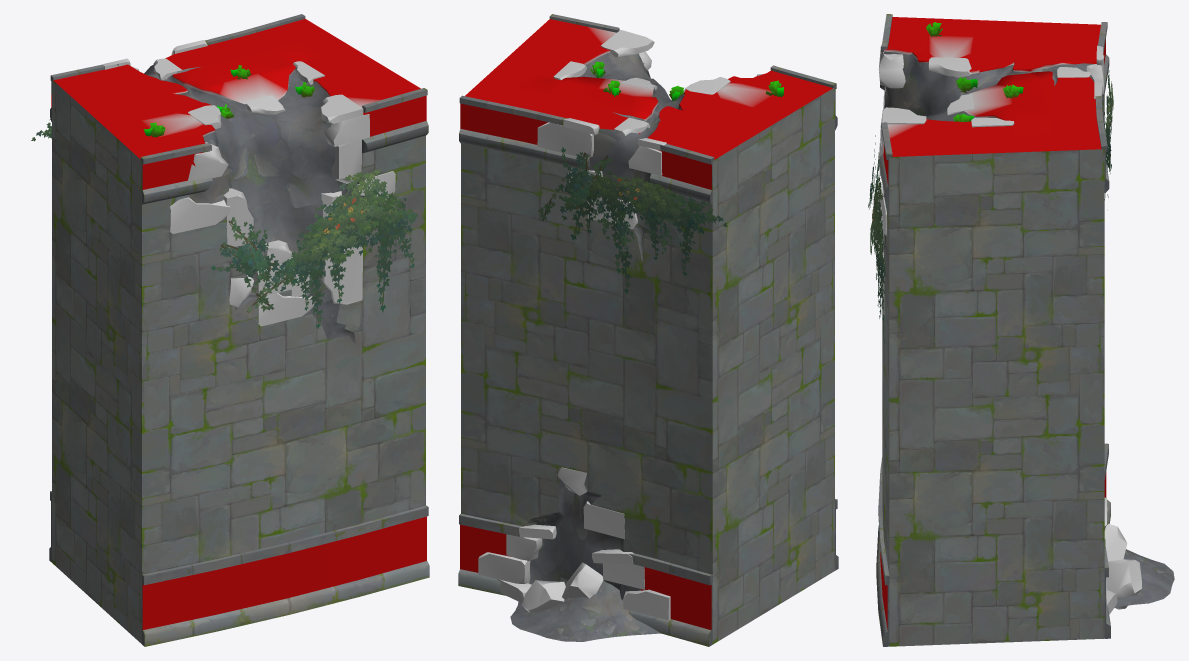
File: Area_MdBuild_SdWall02_24_Group.fbx
3 views of the same model, side by side, from view 1: azimuth 30°, elevation 25°; view 2: azimuth 150°, elevation 25°; view 3: azimuth 270°, elevation 25° (orthographic).
Parts seen in each view (by area): view 1: Area_MdBuild_SdWall02_24_Lod0, Stages_LYLvy05_Vo (1), Stages_LYLvy09_Vo (1); view 2: Area_MdBuild_SdWall02_24_Lod0, Stages_LYLvy02_Vo (1), Area_MdBuild_SdRuins07_01_Vo, Stages_LYLvy09_Vo (2); view 3: Area_MdBuild_SdWall02_24_Lod0, Area_MdBuild_SdRuins07_01_Vo, Stages_LYLvy05_Vo (1).
Part boxes in pixels (left/top/right/bottom): Area_MdBuild_SdWall02_24_Lod0: left=49, top=14, right=429, bottom=646; Stages_LYLvy05_Vo (1): left=246, top=169, right=418, bottom=328; Stages_LYLvy09_Vo (1): left=210, top=217, right=297, bottom=311; Area_MdBuild_SdWall02_24_Lod0: left=458, top=14, right=838, bottom=646; Stages_LYLvy02_Vo (1): left=561, top=171, right=728, bottom=294; Area_MdBuild_SdRuins07_01_Vo: left=510, top=580, right=660, bottom=641; Stages_LYLvy09_Vo (2): left=538, top=147, right=612, bottom=240; Area_MdBuild_SdWall02_24_Lod0: left=876, top=14, right=1141, bottom=646; Area_MdBuild_SdRuins07_01_Vo: left=1114, top=549, right=1174, bottom=607; Stages_LYLvy05_Vo (1): left=870, top=177, right=885, bottom=343.
Bounding box in the file's own units: 13.12 × 21.13 × 11.38.
